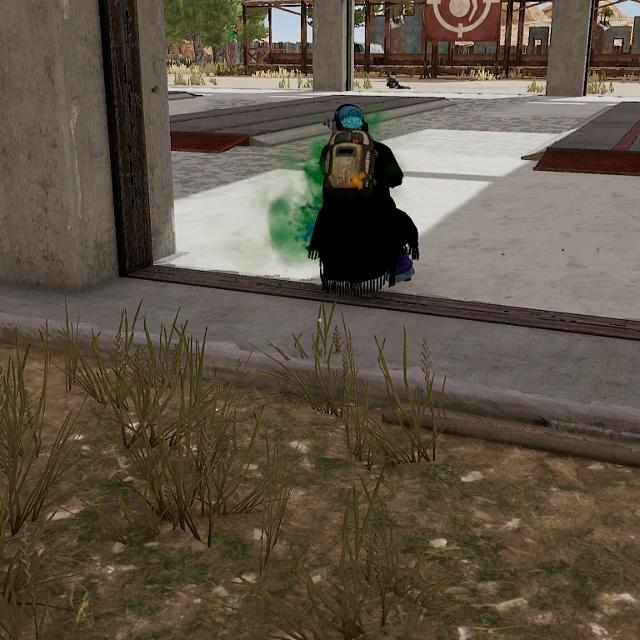head: (321, 96, 377, 138)
people: (299, 96, 420, 299)
